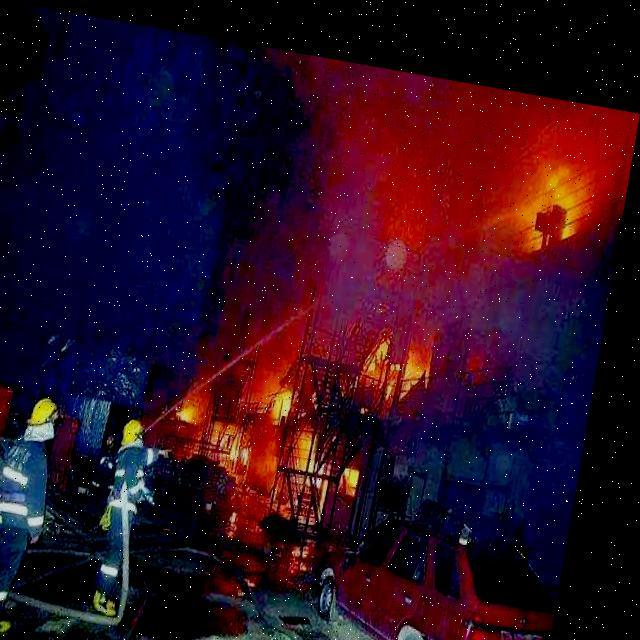Fire: (177, 256, 450, 543), (525, 138, 591, 234)
